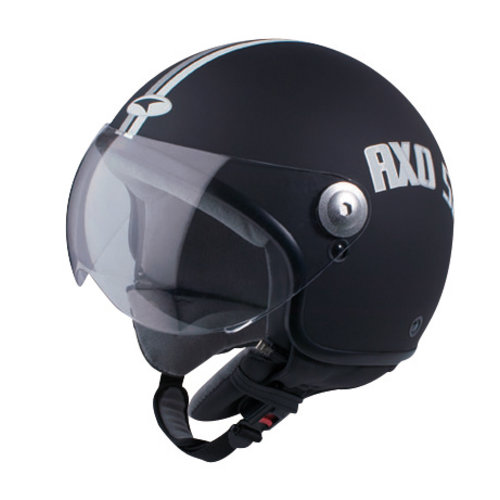helmet: (84, 45, 454, 388)
